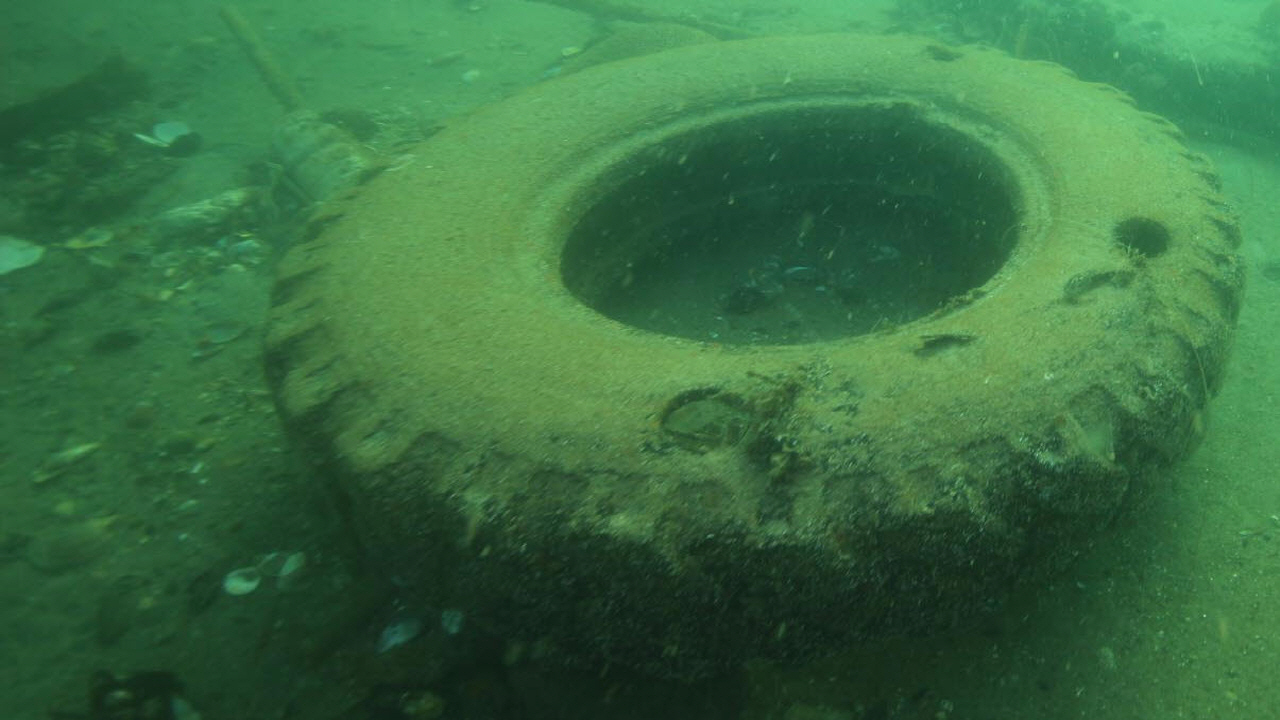tire: (257, 37, 1238, 629)
